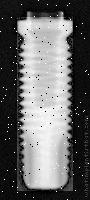Neodent: (17, 17, 73, 191)
